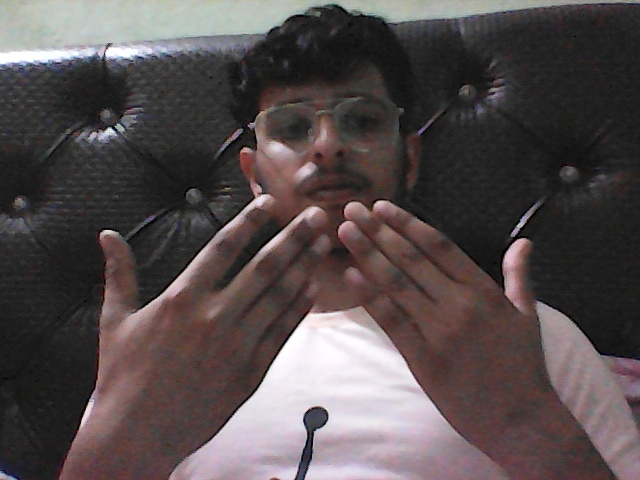thankyou: (39, 184, 595, 457)
